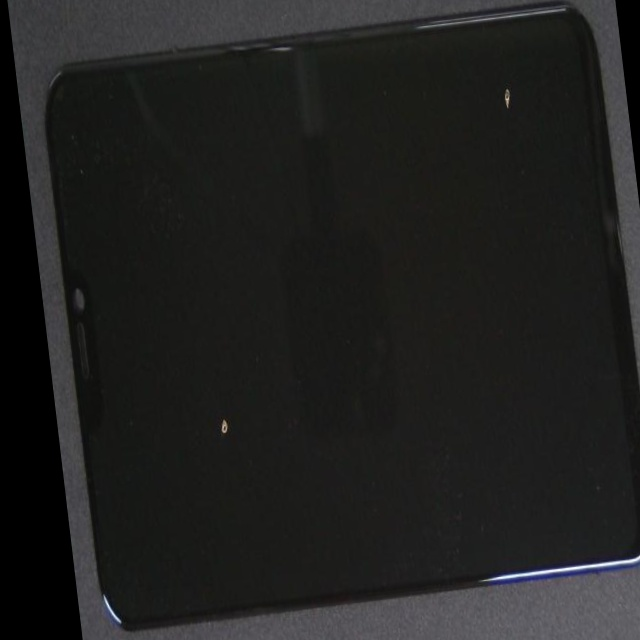stain: (119, 137, 313, 640), (273, 0, 629, 161)
